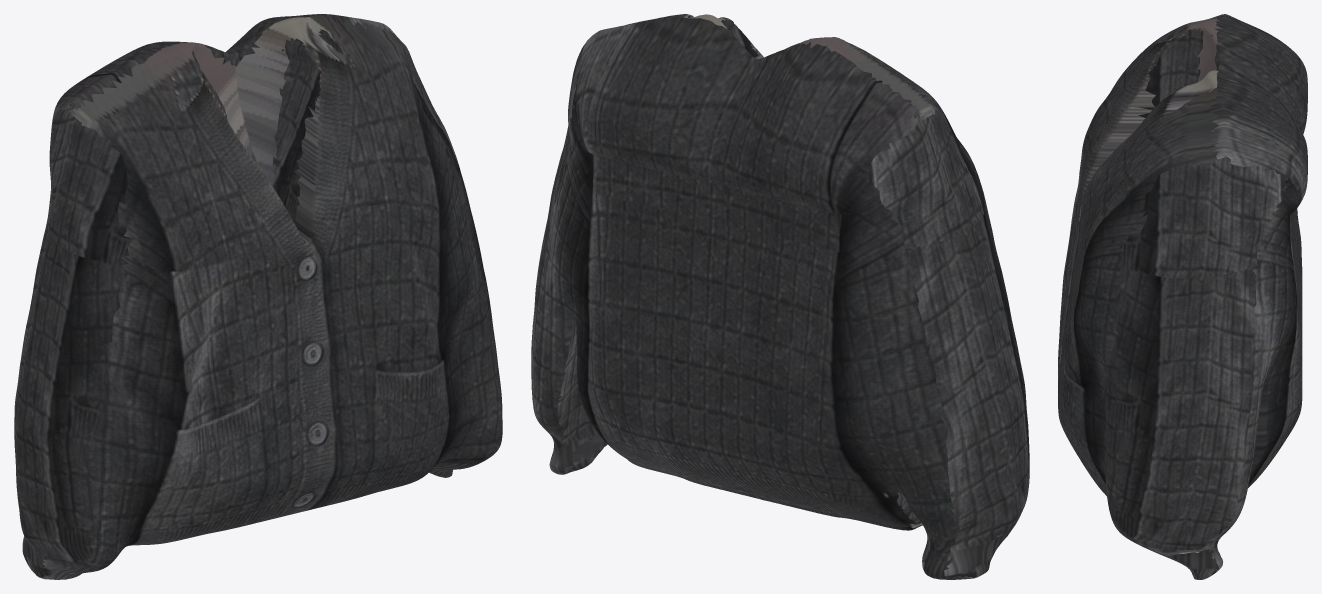
The model's file is NF011-photo-v4.glb.
3 renders of one model, left to right at view 1: azimuth 30°, elevation 25°; view 2: azimuth 150°, elevation 25°; view 3: azimuth 270°, elevation 25°, orthographic. The views are drawn at different scales.
Parts seen in each view (by area): view 1: NF011_worn_photo_fitted; view 2: NF011_worn_photo_fitted; view 3: NF011_worn_photo_fitted.
Part boxes in pixels (bbox=[...]): NF011_worn_photo_fitted: bbox=[14, 14, 502, 579]; NF011_worn_photo_fitted: bbox=[531, 14, 1029, 579]; NF011_worn_photo_fitted: bbox=[1058, 14, 1307, 579].
Bounding box in the file's own units: 0.5682 × 0.5701 × 0.2922.
3 materials, 3 textured.
